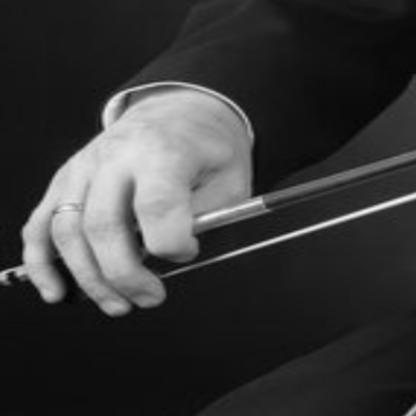good: (0, 133, 291, 318)
